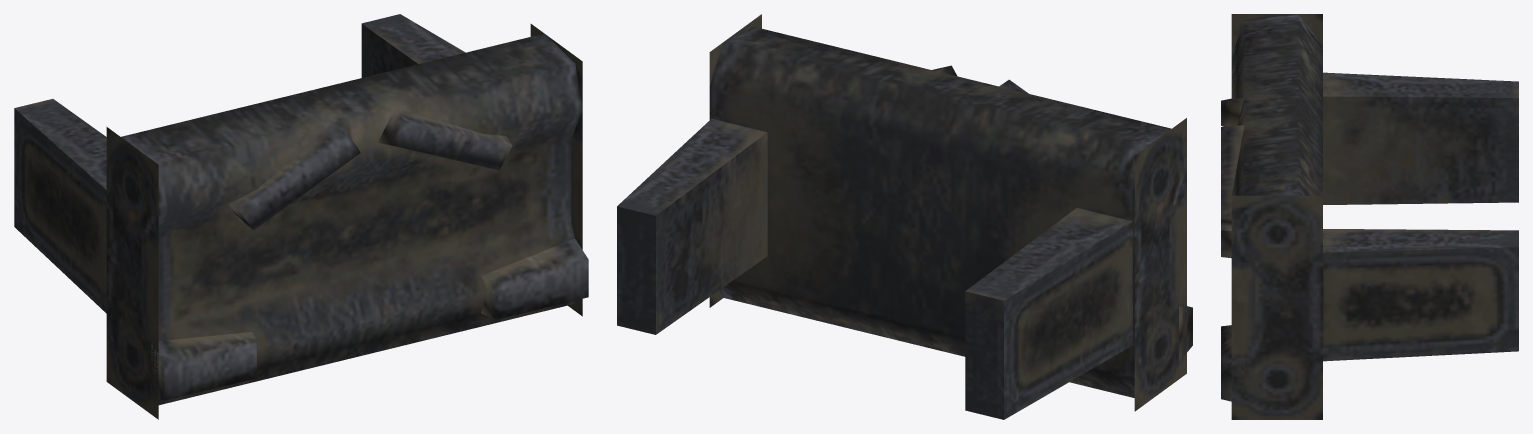
3 views of the same model, side by side, from view 1: azimuth 30°, elevation 25°; view 2: azimuth 150°, elevation 25°; view 3: azimuth 270°, elevation 25° (orthographic). The views are drawn at different scales.
Visible parts, largest first — view 1: set_0_group_0; view 2: set_0_group_0; view 3: set_0_group_0.
Part boxes in pixels (x1,y1,x2,y2): set_0_group_0: [14, 14, 588, 419]; set_0_group_0: [617, 14, 1192, 419]; set_0_group_0: [1221, 14, 1518, 419].
Size of the model in its own units: 0.2298 by 0.1322 by 0.1591.
Materials: 1 (1 with a texture image).
